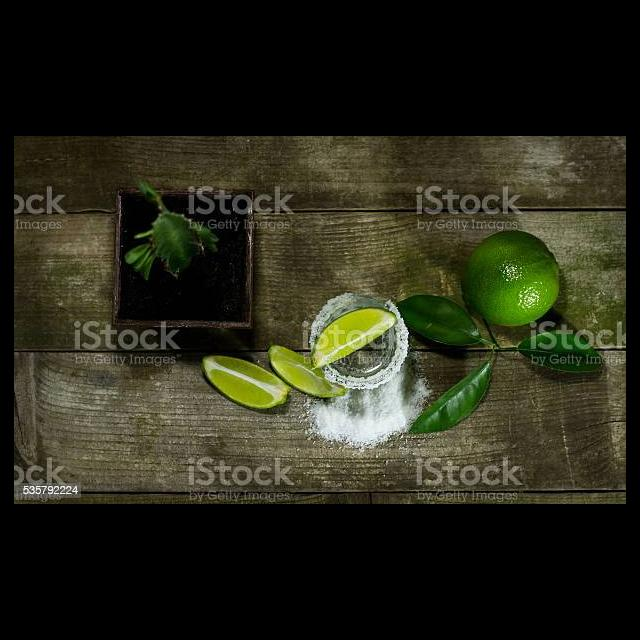lime: (459, 232, 561, 329)
